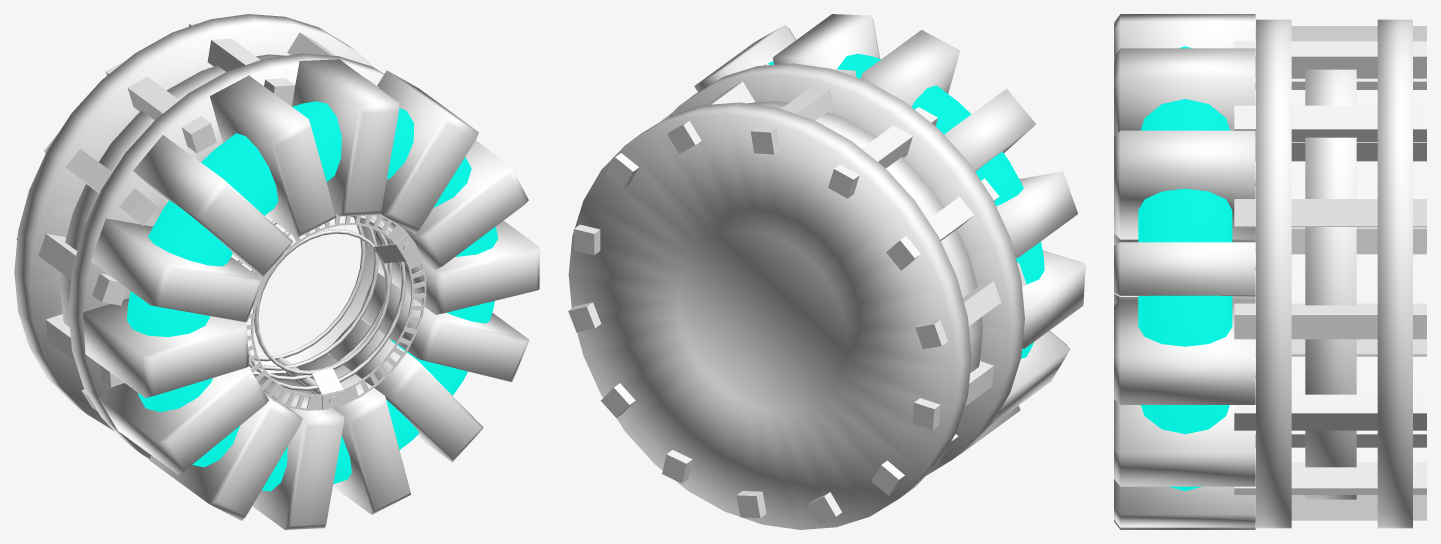
File: Model of Arc Reactor.glb
3 views of the same model, side by side, from view 1: azimuth 30°, elevation 25°; view 2: azimuth 150°, elevation 25°; view 3: azimuth 270°, elevation 25° (orthographic). The views are drawn at different scales.
Parts seen in each view (by area): view 1: Controler, Produser, Tube, Joining, Reactor, Ring_Part_1, Ring_Part_2; view 2: Produser, Controler, Joining, Tube; view 3: Controler, Produser, Joining, Tube.
Boxes of the visible parts, x1,y1,x2,y2 form: Controler: (83,59,539,529); Produser: (14,14,391,458); Tube: (127,101,497,491); Joining: (16,23,379,411); Reactor: (231,215,361,356); Ring_Part_1: (246,214,426,410); Ring_Part_2: (238,215,406,394); Produser: (568,63,1024,529); Controler: (661,14,1085,453); Joining: (568,63,1026,524); Tube: (768,53,1044,358); Controler: (1114,14,1255,529); Produser: (1256,19,1412,528); Joining: (1234,26,1426,520); Tube: (1138,46,1232,490).
Bounding box in the file's own units: 5.35 × 5.35 × 3.25.
